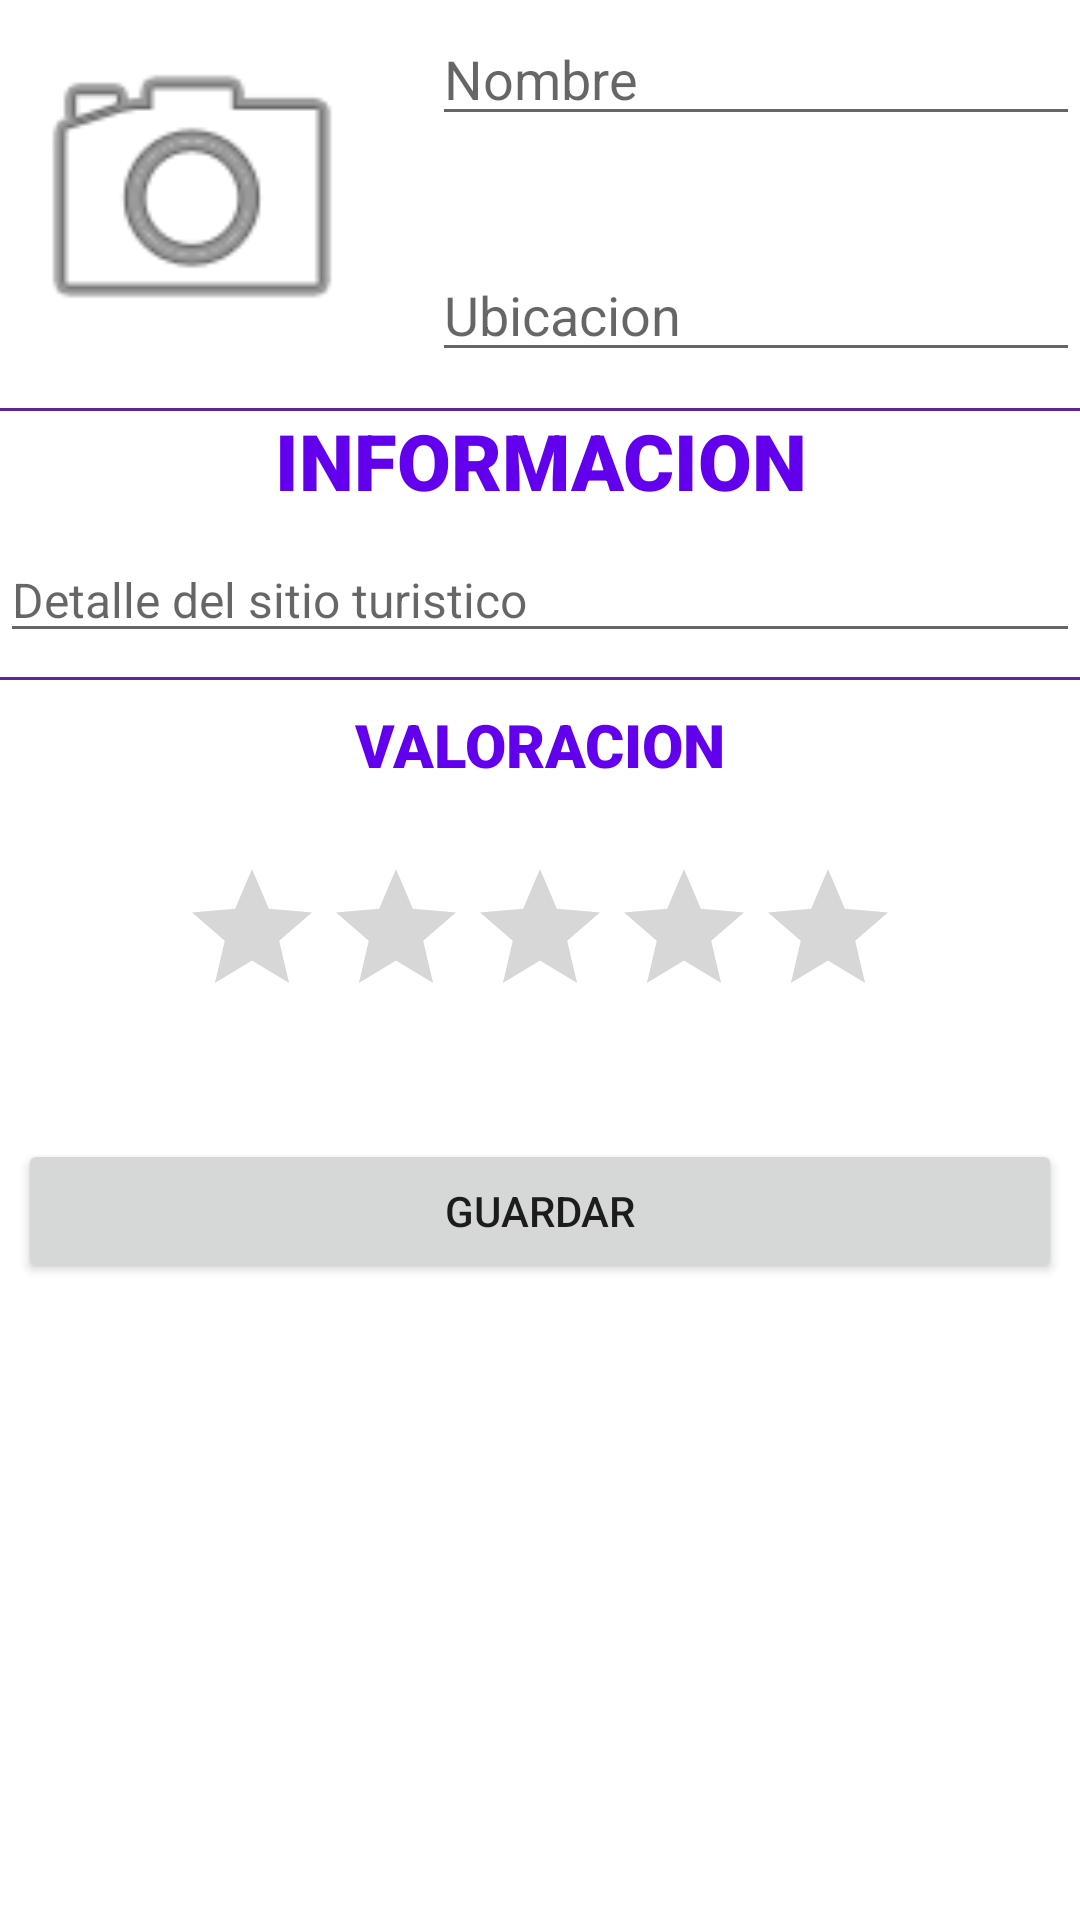

Screen size 1080×1920. Icon name, then its center in pixels as (x=x, y=y):
camera: (x=192, y=186)
